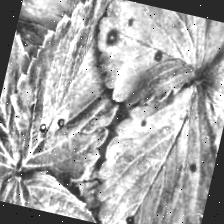Leaf Spot: (0, 0, 142, 194), (85, 61, 224, 224), (80, 0, 224, 126), (165, 28, 224, 224), (0, 12, 55, 204), (0, 162, 127, 224)
